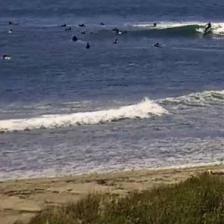surfer: (204, 22, 212, 31), (113, 28, 123, 35), (1, 54, 10, 60), (154, 43, 162, 49), (85, 43, 91, 51), (71, 36, 79, 42), (58, 23, 67, 28), (66, 27, 74, 32), (8, 21, 15, 26), (78, 24, 86, 28), (152, 23, 158, 28), (80, 31, 86, 36), (100, 21, 105, 27), (113, 40, 119, 44), (8, 30, 14, 34)
